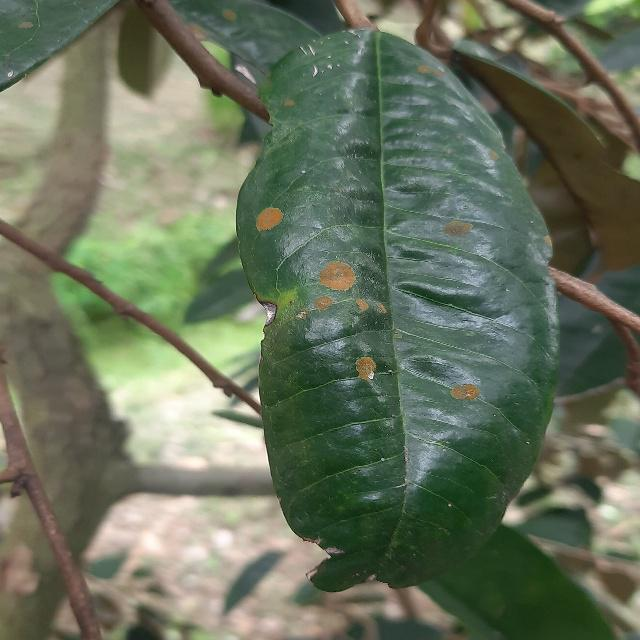Algal Leaf Spot: (235, 13, 569, 595)
